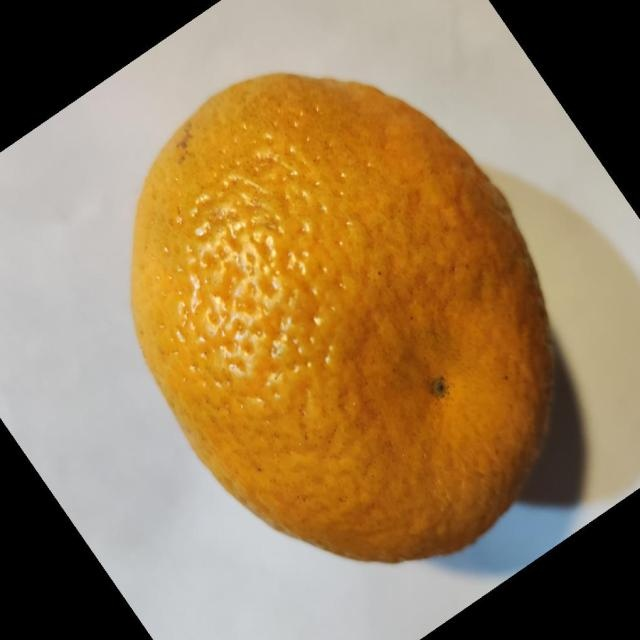agrume: (129, 71, 557, 564)
